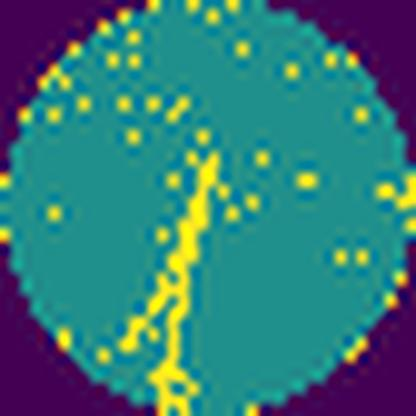Scratch: (113, 150, 225, 416)
